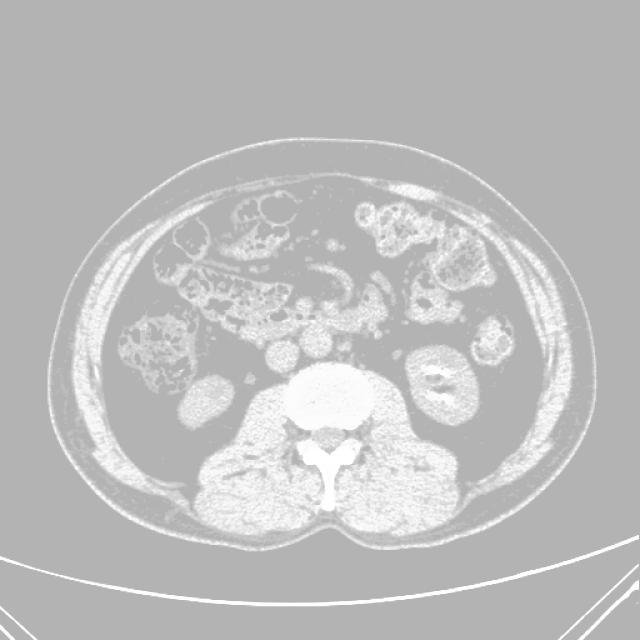STONE: (118, 241, 526, 451)
